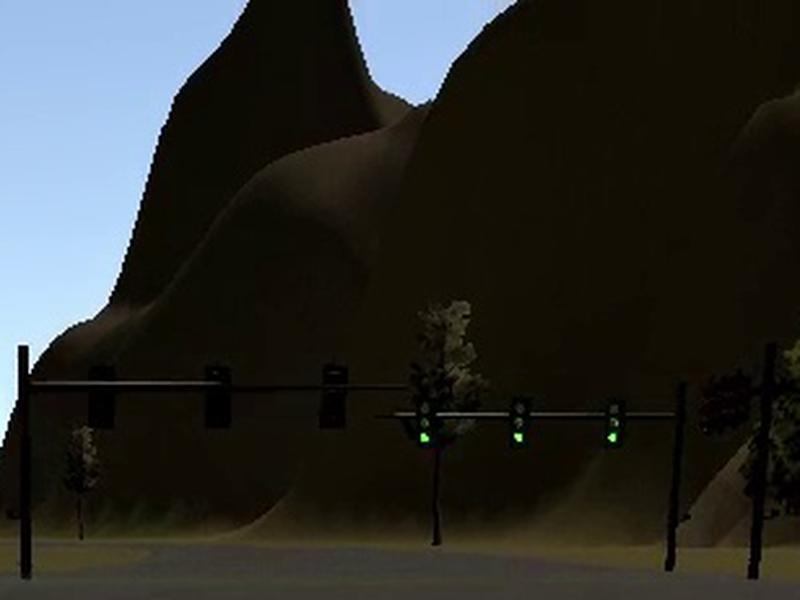Green: (508, 396, 532, 445), (602, 398, 625, 447), (416, 397, 438, 446)
